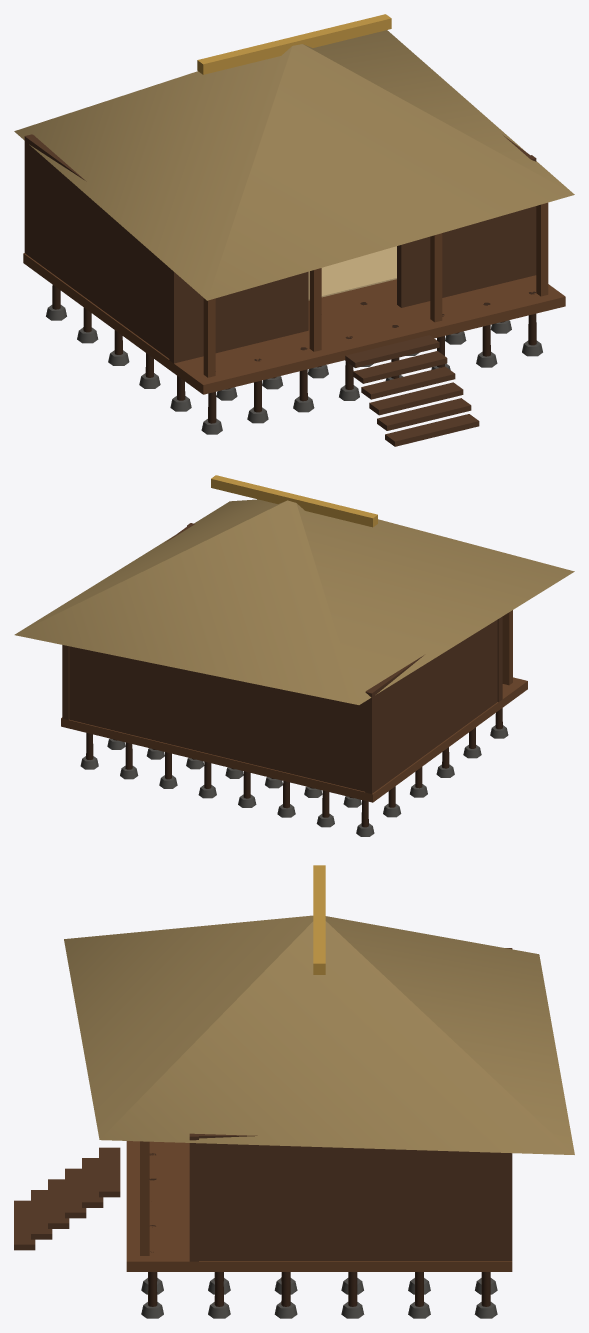
The model's file is mod-aki-aksa-arfak.glb.
3 renders of one model, top to bottom at view 1: azimuth 30°, elevation 25°; view 2: azimuth 150°, elevation 25°; view 3: azimuth 270°, elevation 25°, orthographic. The views are drawn at different scales.
Visible parts, largest first — view 1: ROOF_SYSTEM, WALL_SYSTEM, FLOOR_SYSTEM, ENTRANCE_STAIRS, STRUCTURAL_COLUMNS, FOUNDATION_SYSTEM, INTERIOR_MAT; view 2: ROOF_SYSTEM, WALL_SYSTEM, FLOOR_SYSTEM, FOUNDATION_SYSTEM, STRUCTURAL_COLUMNS; view 3: ROOF_SYSTEM, WALL_SYSTEM, FLOOR_SYSTEM, ENTRANCE_STAIRS, STRUCTURAL_COLUMNS, FOUNDATION_SYSTEM.
Part boxes in pixels (left/top/right/bottom): ROOF_SYSTEM: left=14, top=14, right=574, bottom=300; WALL_SYSTEM: left=24, top=134, right=536, bottom=363; FLOOR_SYSTEM: left=23, top=253, right=565, bottom=394; ENTRANCE_STAIRS: left=345, top=335, right=479, bottom=446; STRUCTURAL_COLUMNS: left=52, top=202, right=548, bottom=423; FOUNDATION_SYSTEM: left=46, top=305, right=542, bottom=434; INTERIOR_MAT: left=308, top=246, right=396, bottom=300; ROOF_SYSTEM: left=14, top=475, right=574, bottom=704; WALL_SYSTEM: left=62, top=523, right=502, bottom=793; FLOOR_SYSTEM: left=61, top=677, right=527, bottom=802; FOUNDATION_SYSTEM: left=80, top=725, right=508, bottom=836; STRUCTURAL_COLUMNS: left=86, top=610, right=512, bottom=827; ROOF_SYSTEM: left=64, top=865, right=574, bottom=1154; WALL_SYSTEM: left=189, top=948, right=512, bottom=1261; FLOOR_SYSTEM: left=126, top=1141, right=512, bottom=1271; ENTRANCE_STAIRS: left=14, top=1147, right=120, bottom=1250; STRUCTURAL_COLUMNS: left=140, top=1141, right=490, bottom=1306; FOUNDATION_SYSTEM: left=141, top=1278, right=497, bottom=1318.
Size of what is drawn, in the model's own units: 9.81 by 6.7 by 10.76.
